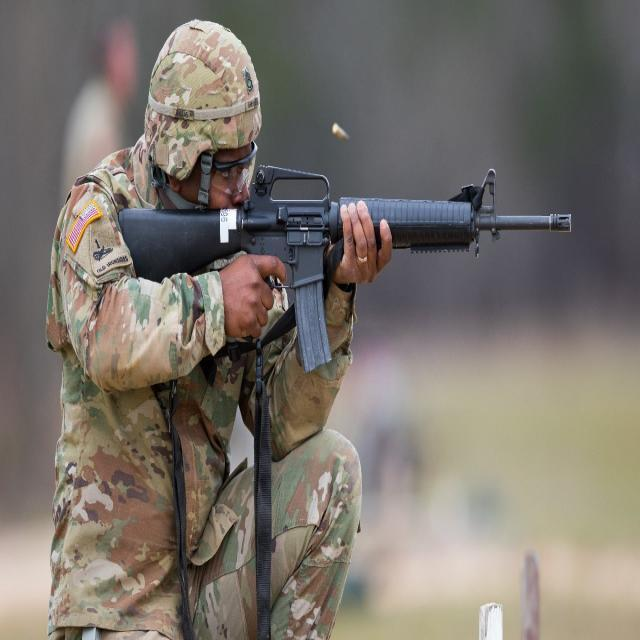m16: (113, 86, 589, 391)
